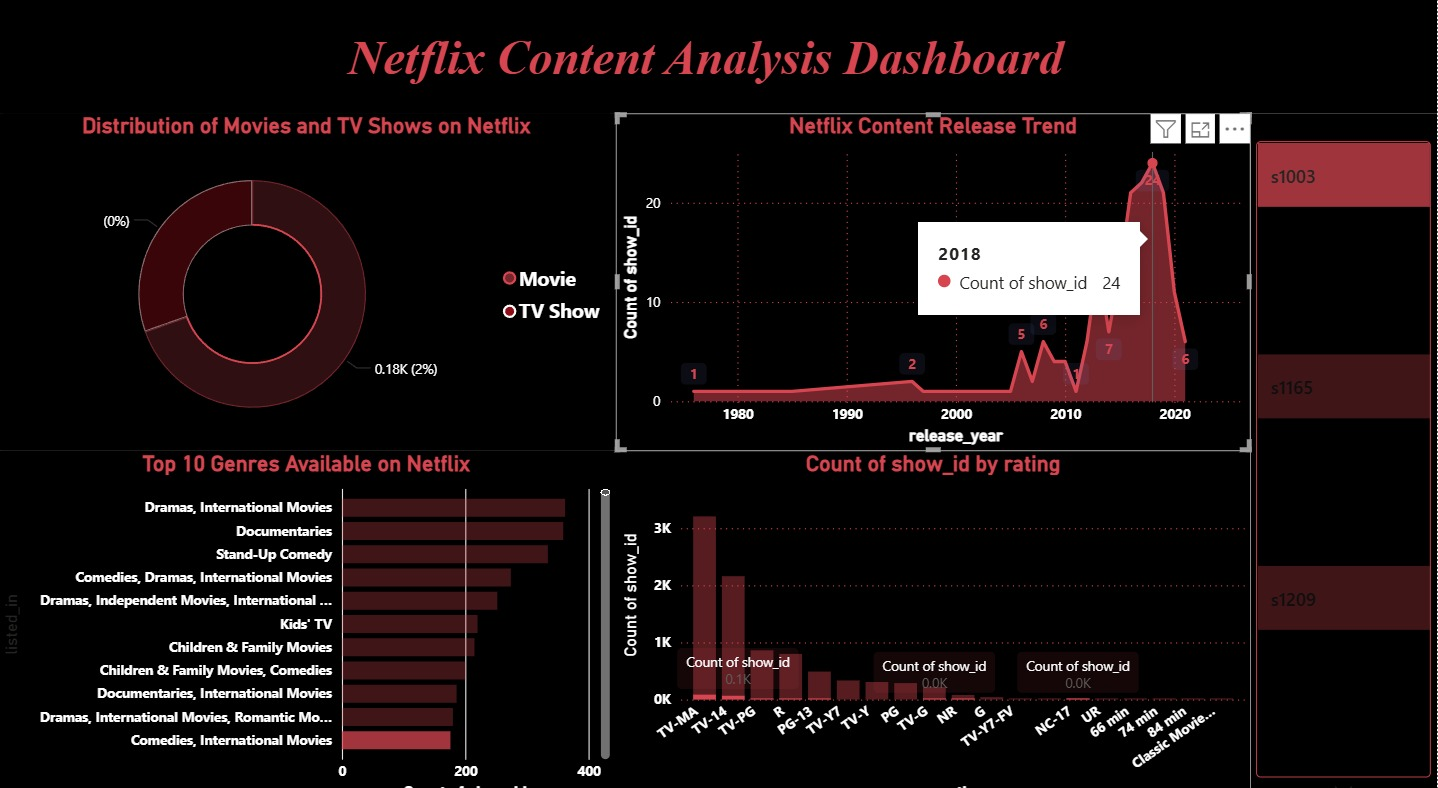

This screenshot's page, from the dashboard's own definition file:
{"tool":"powerbi","page":{"name":"Page 1","canvas":[1280,720],"ordinal":0},"visuals":[{"type":"donutChart","title":"Distribution of Movies and TV Shows on Netflix","fields":{"Category":["netflix_titles.type"],"Y":["CountNonNull(netflix_titles.show_id)"]},"box":[0,102.9,550,300],"z":0},{"type":"lineChart","title":"Netflix Content Release Trend","fields":{"Y":["CountNonNull(netflix_titles.show_id)"],"Category":["netflix_titles.release_year"]},"box":[550,102.9,564.3,300],"z":1000},{"type":"clusteredBarChart","title":"Top 10 Genres Available on Netflix","fields":{"Y":["CountNonNull(netflix_titles.show_id)"],"Category":["netflix_titles.listed_in"]},"box":[0,402.9,550,317.1],"z":2000},{"type":"clusteredColumnChart","fields":{"Category":["netflix_titles.rating"],"Y":["CountNonNull(netflix_titles.show_id)"]},"box":[550,402.9,564.3,317.1],"z":3000},{"type":"cardVisual","fields":{"Rows":["netflix_titles.show_id"]},"box":[1114.3,102.9,165.7,617.1],"z":4000},{"type":"textbox","box":[0,0,1280,102.9],"z":5000}]}

Visuals, with their boxes in screenshot pixels (x1, y1, x2, y2), scaled from the page's 1280x720 canvas onto the 1438x788 screenshot:
"Distribution of Movies and TV Shows on Netflix" donutChart: (left=0, top=113, right=618, bottom=441)
"Netflix Content Release Trend" lineChart: (left=618, top=113, right=1252, bottom=441)
"Top 10 Genres Available on Netflix" clusteredBarChart: (left=0, top=441, right=618, bottom=787)
clusteredColumnChart - netflix_titles.rating x CountNonNull(netflix_titles.show_id): (left=618, top=441, right=1252, bottom=787)
cardVisual - netflix_titles.show_id: (left=1252, top=113, right=1437, bottom=787)
textbox: (left=0, top=0, right=1437, bottom=113)
